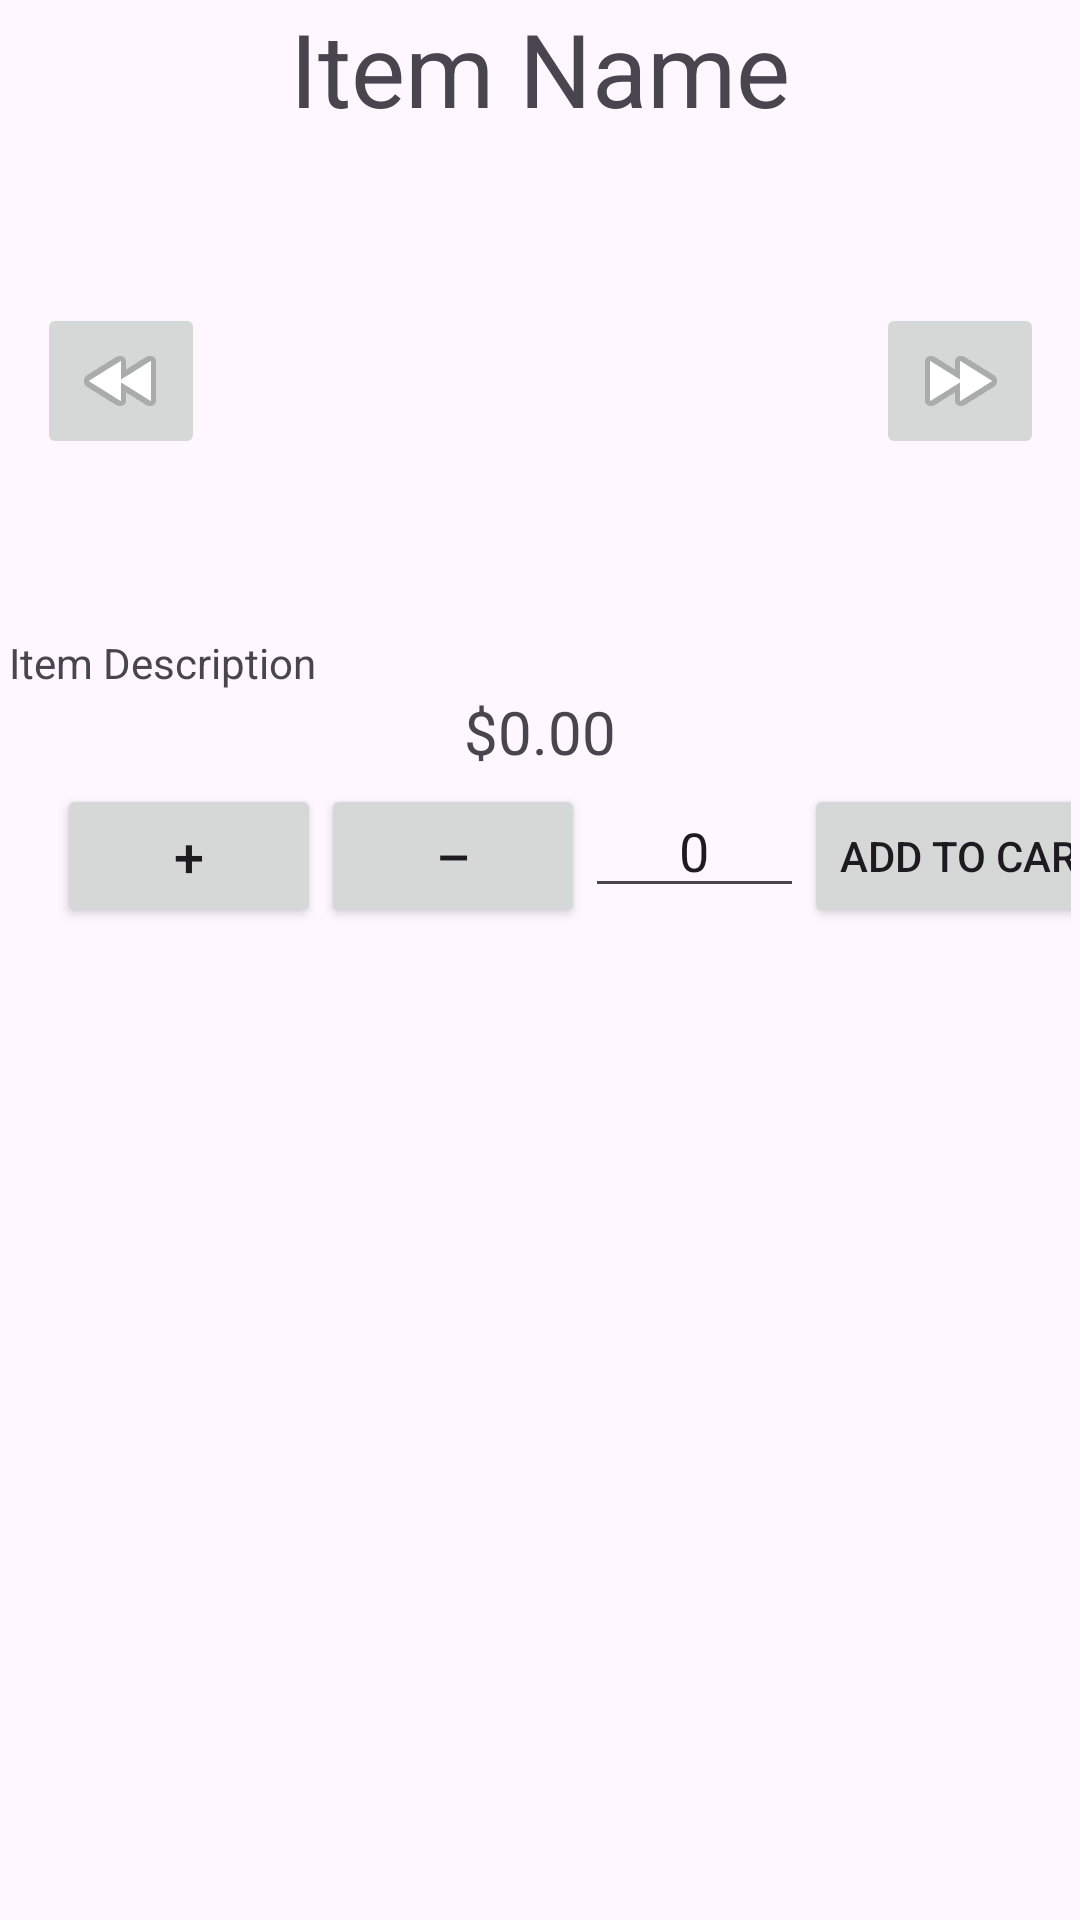

Icons on this 1080*1920 Android screen, each with the point to tap as (x=x, y=y):
rew: (x=121, y=381)
